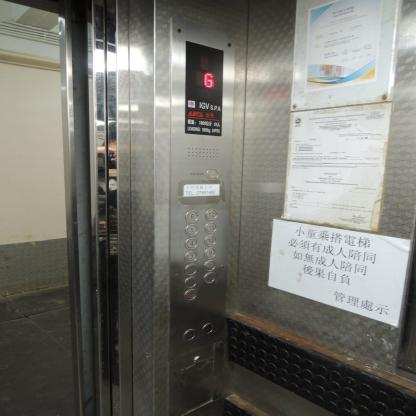1: (184, 276, 197, 289)
10: (204, 235, 216, 246)
11: (204, 222, 217, 233)
12: (204, 208, 217, 221)
2: (184, 263, 197, 276)
3: (184, 249, 197, 263)
4: (184, 237, 198, 250)
5: (185, 224, 198, 236)
6: (185, 209, 199, 223)
7: (203, 272, 216, 284)
8: (202, 260, 216, 272)
9: (203, 247, 216, 259)
G: (183, 288, 197, 302)
alarm: (206, 168, 218, 181)
close: (202, 322, 214, 334)
keyhole: (193, 355, 200, 363)
led: (183, 40, 229, 138)
open: (183, 328, 197, 342)
